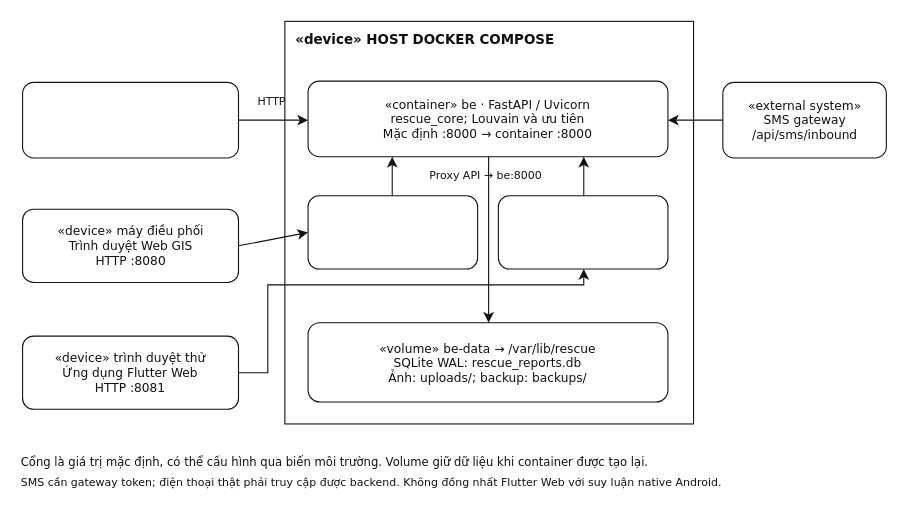
Image size: 908x511. Some labels were removed from this diagram. The box of each missing label's shape, as (x1, y1, x2, y2) in pixels:
«container» dashboard Nginx · HTML/JS/Leaflet :8080 → :80: (307, 195, 478, 269)
«container» fe Nginx · Flutter Web :8081 → :80: (497, 195, 668, 269)
«device» Android GPS, Camera, Hive ONNX / ExecuTorch tại biên: (21, 81, 239, 158)
